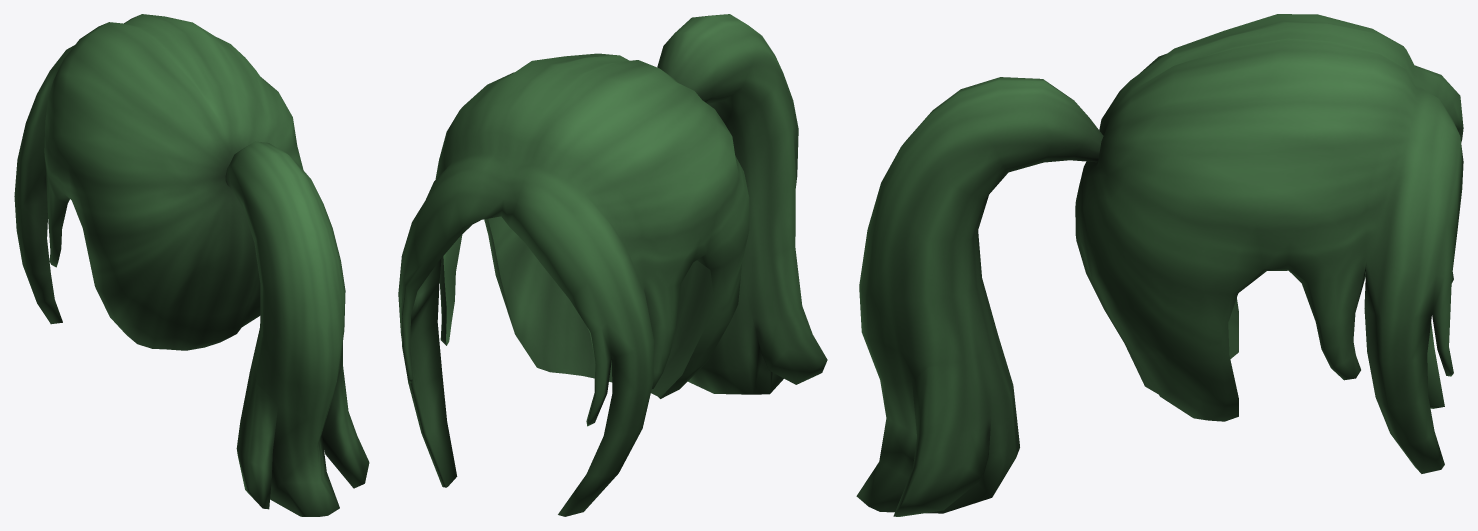
File: Hair_Female_002_textured_green.glb
The picture shows the model from 3 angles, left to right: view 1: azimuth 30°, elevation 25°; view 2: azimuth 150°, elevation 25°; view 3: azimuth 270°, elevation 25°; orthographic projection. The views are drawn at different scales.
Visible parts, largest first — view 1: Hair_Female_002; view 2: Hair_Female_002; view 3: Hair_Female_002.
Part boxes in pixels (<box>): Hair_Female_002: <box>14,14,369,516</box>; Hair_Female_002: <box>398,14,827,516</box>; Hair_Female_002: <box>856,14,1463,516</box>.
Size of the model in its own units: 0.1741 by 0.2888 by 0.3351.
1 material, 1 textured.
